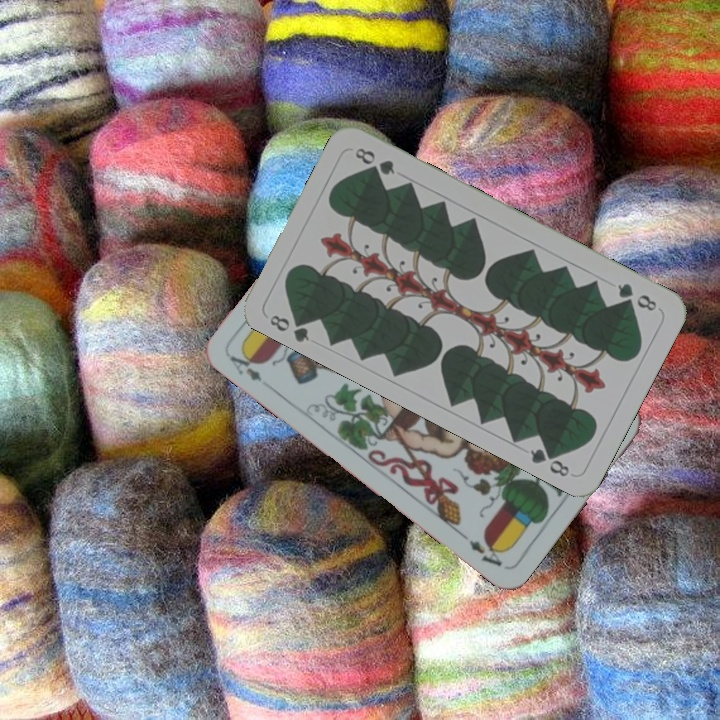EA: (225, 345, 265, 385)
G8: (265, 309, 312, 345), (613, 279, 660, 314)
